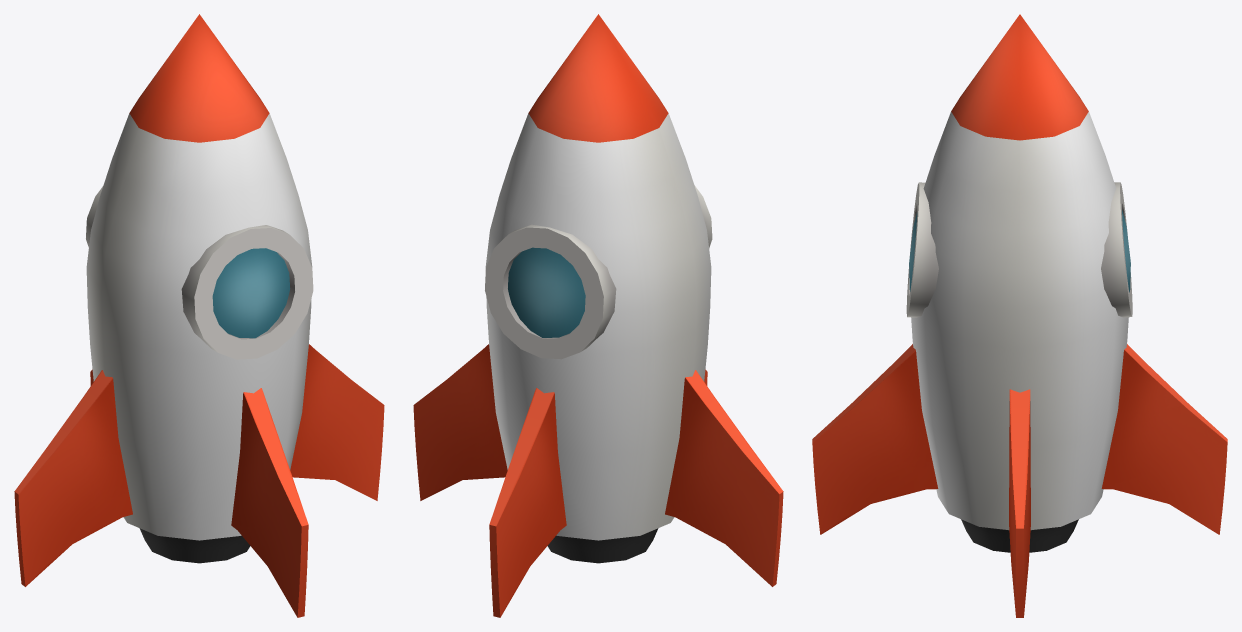
Rendered from ENV2010117.fbx.
3 views of the same model, side by side, from view 1: azimuth 30°, elevation 25°; view 2: azimuth 150°, elevation 25°; view 3: azimuth 270°, elevation 25° (orthographic).
Parts seen in each view (by area): view 1: smENV2010117; view 2: smENV2010117; view 3: smENV2010117.
Boxes of the visible parts, box(x1,y1,x2,y2) form: smENV2010117: box(14, 14, 384, 617); smENV2010117: box(413, 14, 783, 617); smENV2010117: box(812, 14, 1227, 617).
Size of the model in its own units: 20.69 by 28.56 by 20.69.
1 material, 1 textured.
